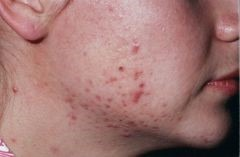Acne: (61, 17, 169, 141)
